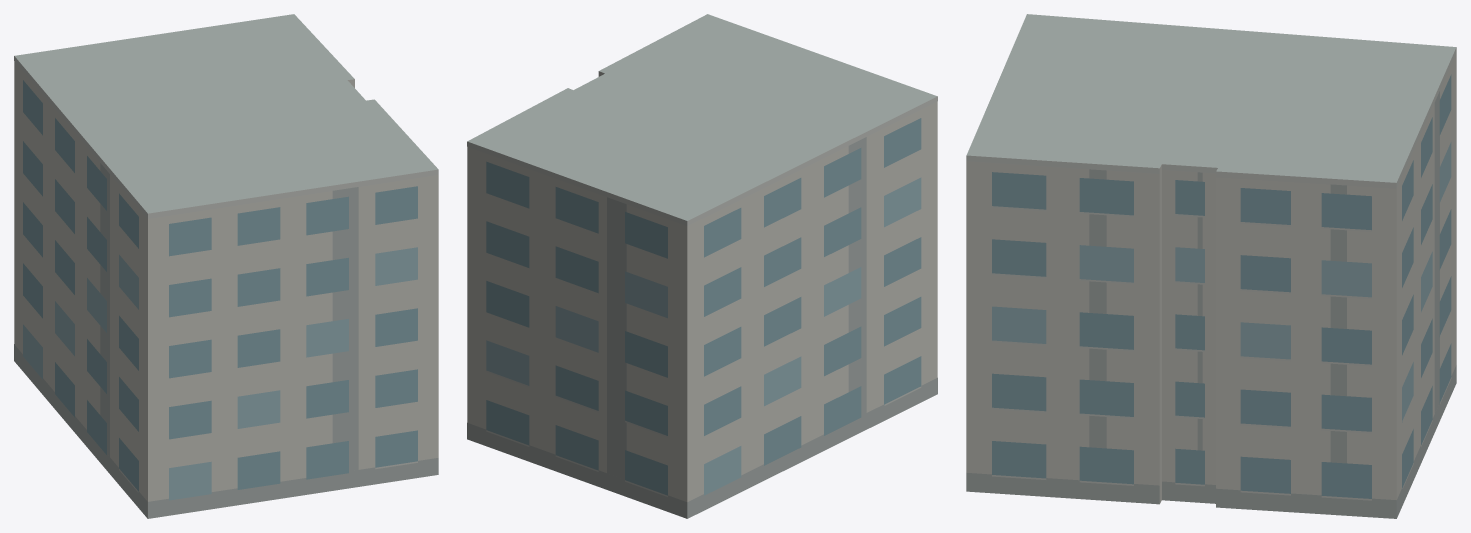
Rendered from survey-upis-33028217.glb.
3 views of the same model, side by side, from view 1: azimuth 30°, elevation 25°; view 2: azimuth 150°, elevation 25°; view 3: azimuth 270°, elevation 25° (orthographic). The views are drawn at different scales.
Visible parts, largest first — view 1: survey-upis-33028217.tmp; view 2: survey-upis-33028217.tmp; view 3: survey-upis-33028217.tmp.
Boxes of the visible parts, x1=… form: survey-upis-33028217.tmp: x1=14, y1=14, x2=438, y2=518; survey-upis-33028217.tmp: x1=467, y1=14, x2=937, y2=518; survey-upis-33028217.tmp: x1=966, y1=14, x2=1456, y2=518.
Bounding box in the file's own units: 15.31 × 14.2 × 18.78.
